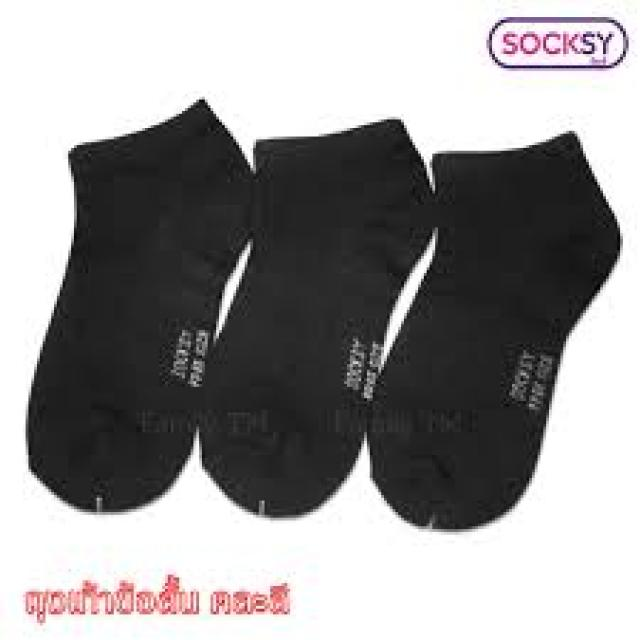sock: (364, 128, 620, 529), (196, 114, 435, 518), (23, 97, 253, 512)
